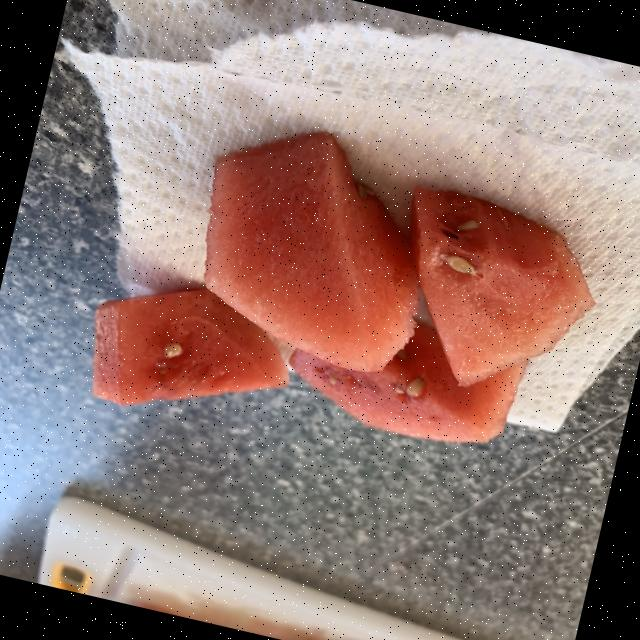watermelon-fresh: (91, 138, 582, 441)
